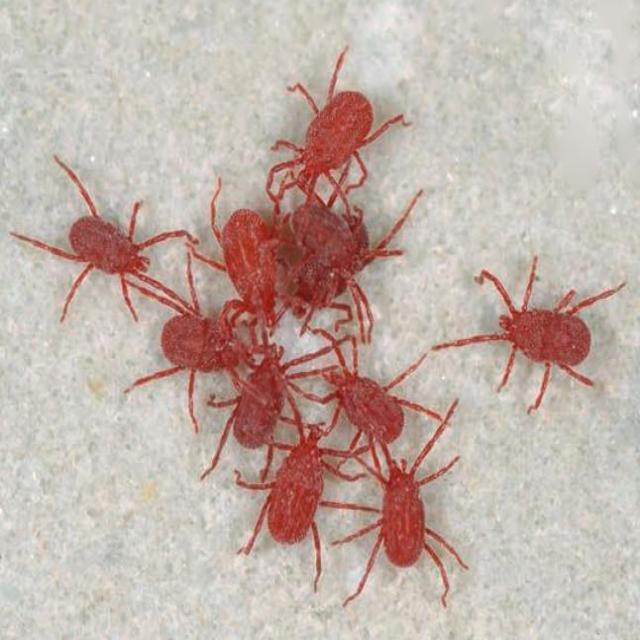other: (35, 37, 612, 580)
